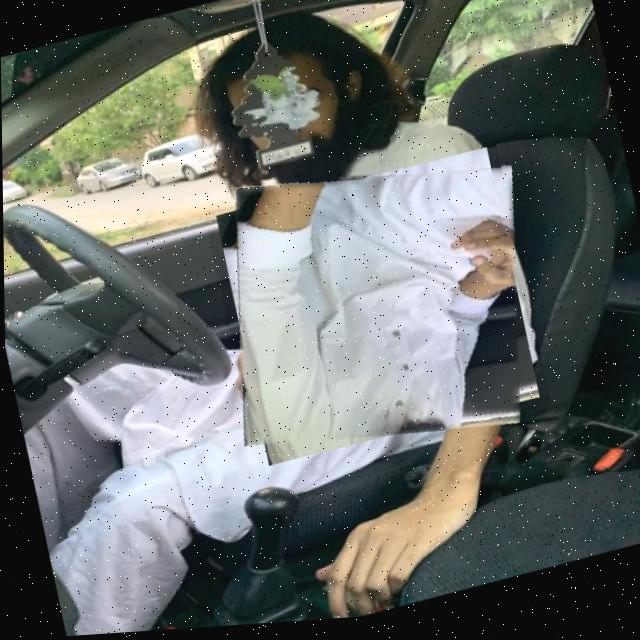no-seatbelt: (200, 134, 549, 485)
